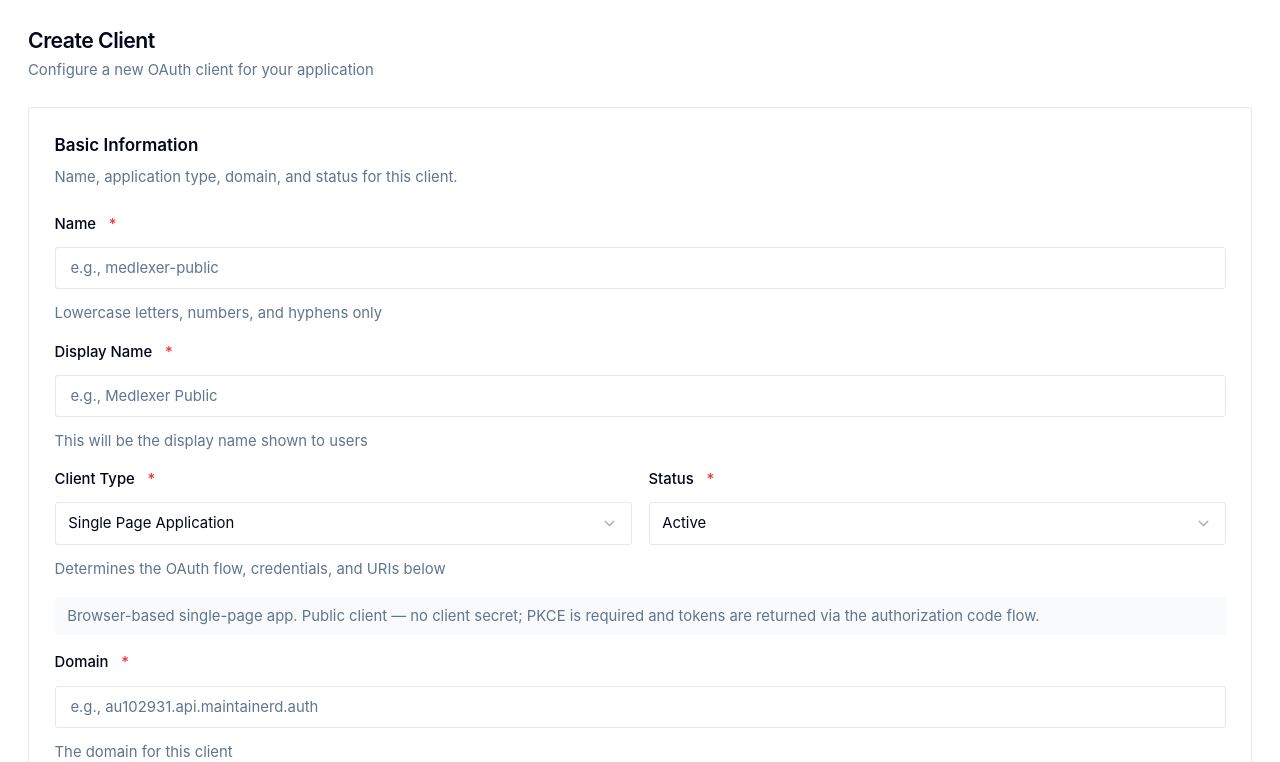
Test: ClientAddOrUpdateForm › maps structured server field errors onto the offending inputs
Step 1. Type "my-client" into the field labelled "Name *" → (640, 268), box [54,247,1226,290]
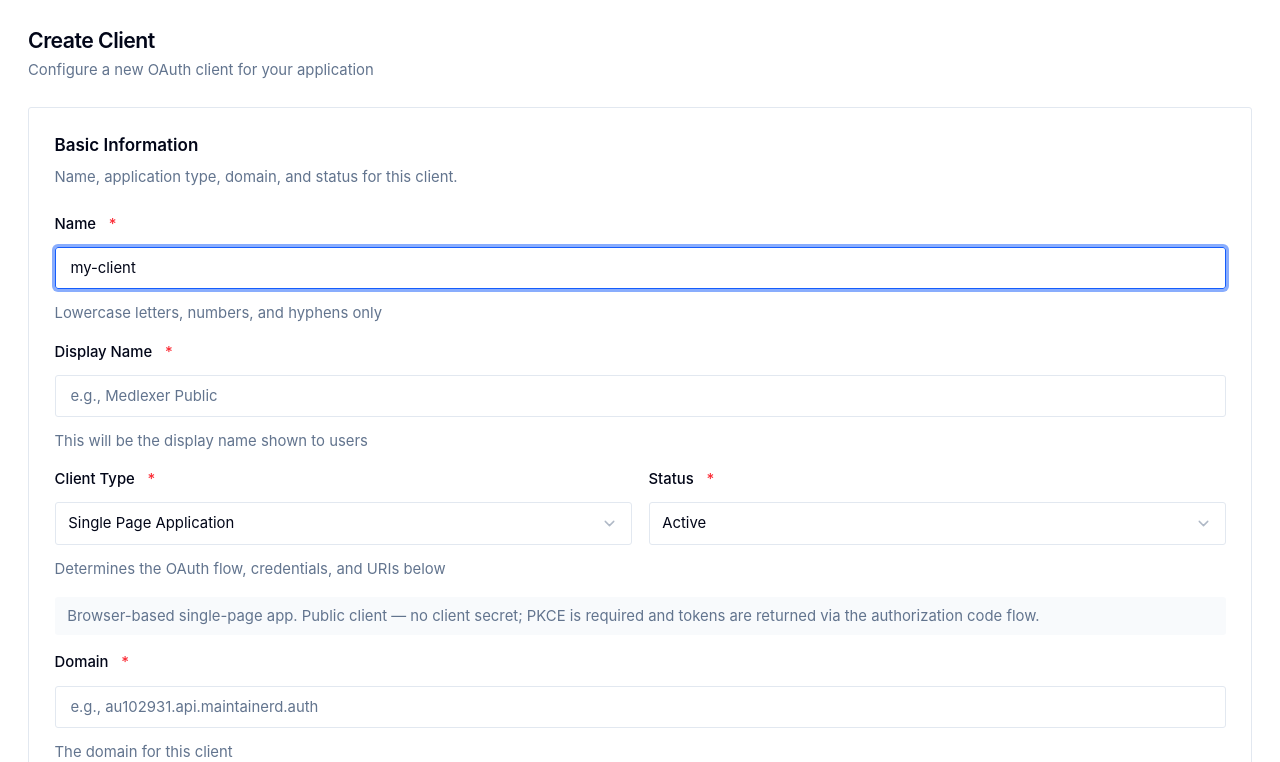
Step 2. Type "My Client App" into the field labelled "Display Name *" → (640, 396), box [54,375,1226,417]
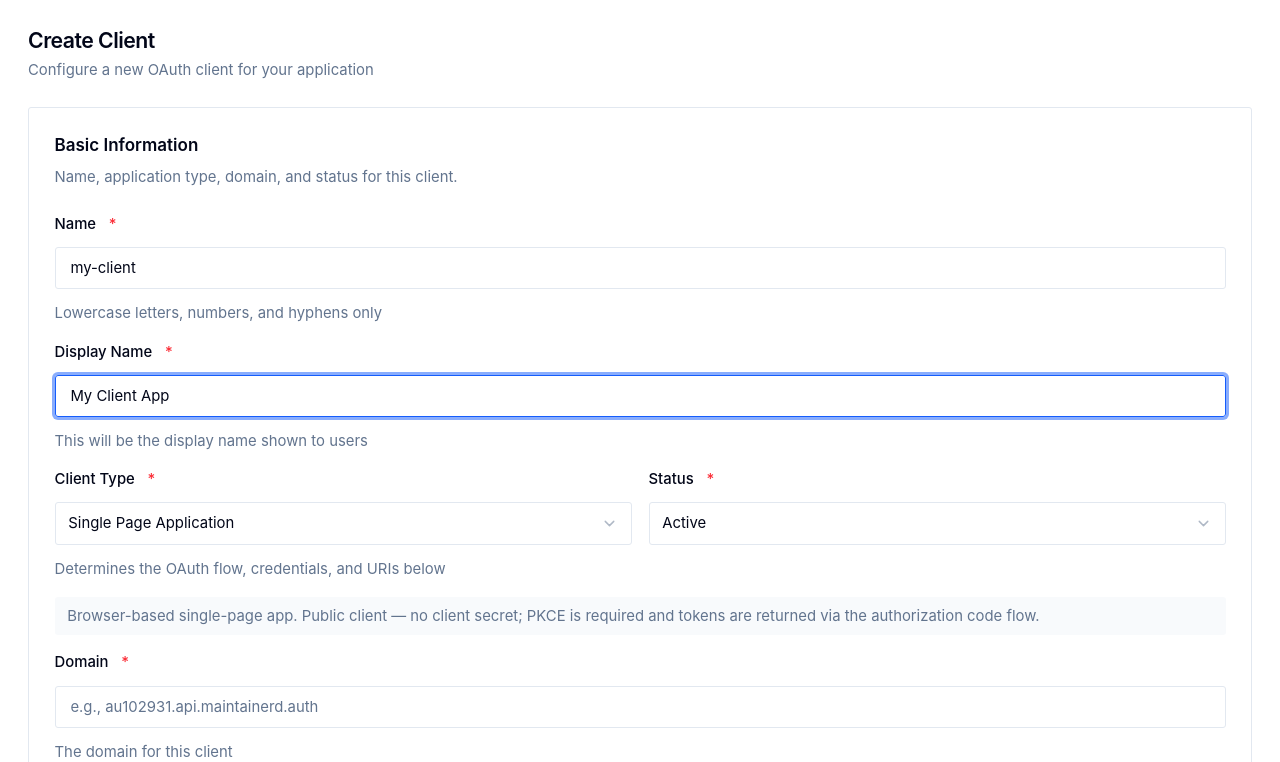
Step 3. Type "app.example.com" into the field labelled "Domain *" → (640, 707), box [54,686,1226,728]
(page scrolled)
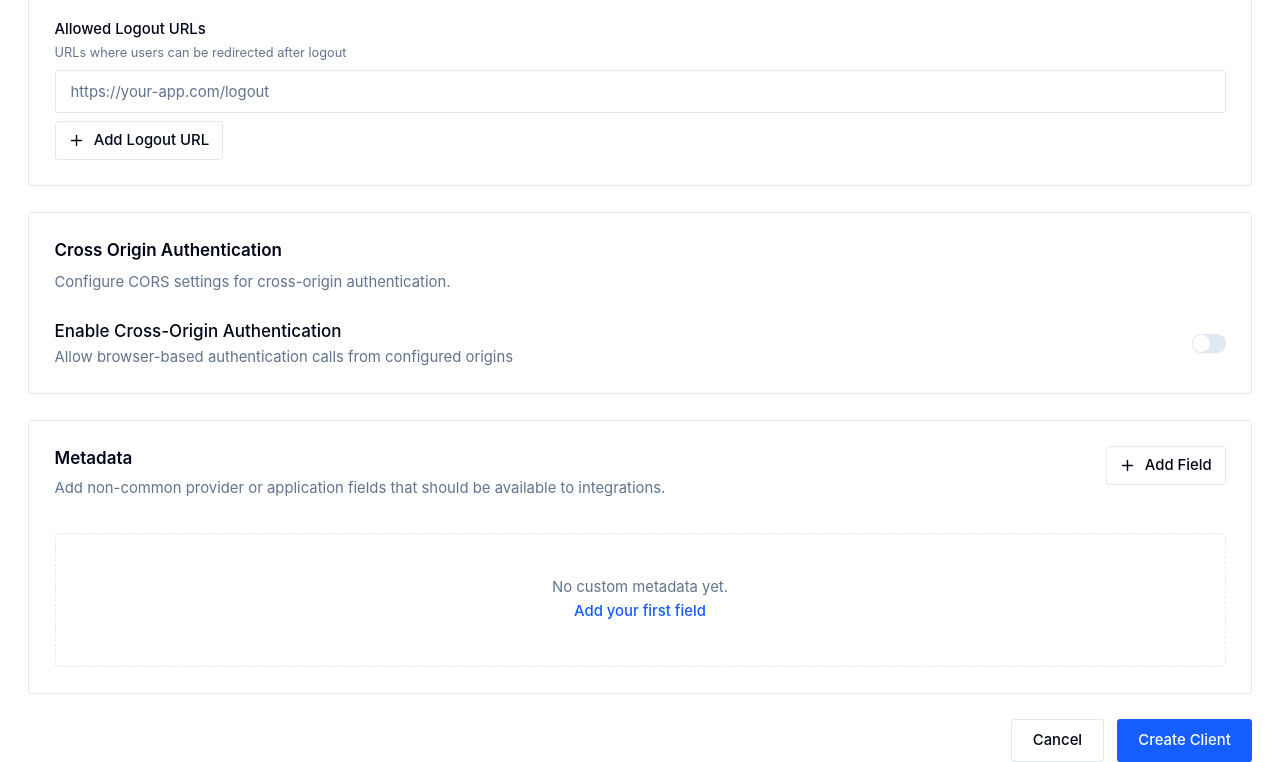
Step 4. Click the button "Create Client" → click(1185, 740), box [1117,719,1252,761]
(page scrolled)
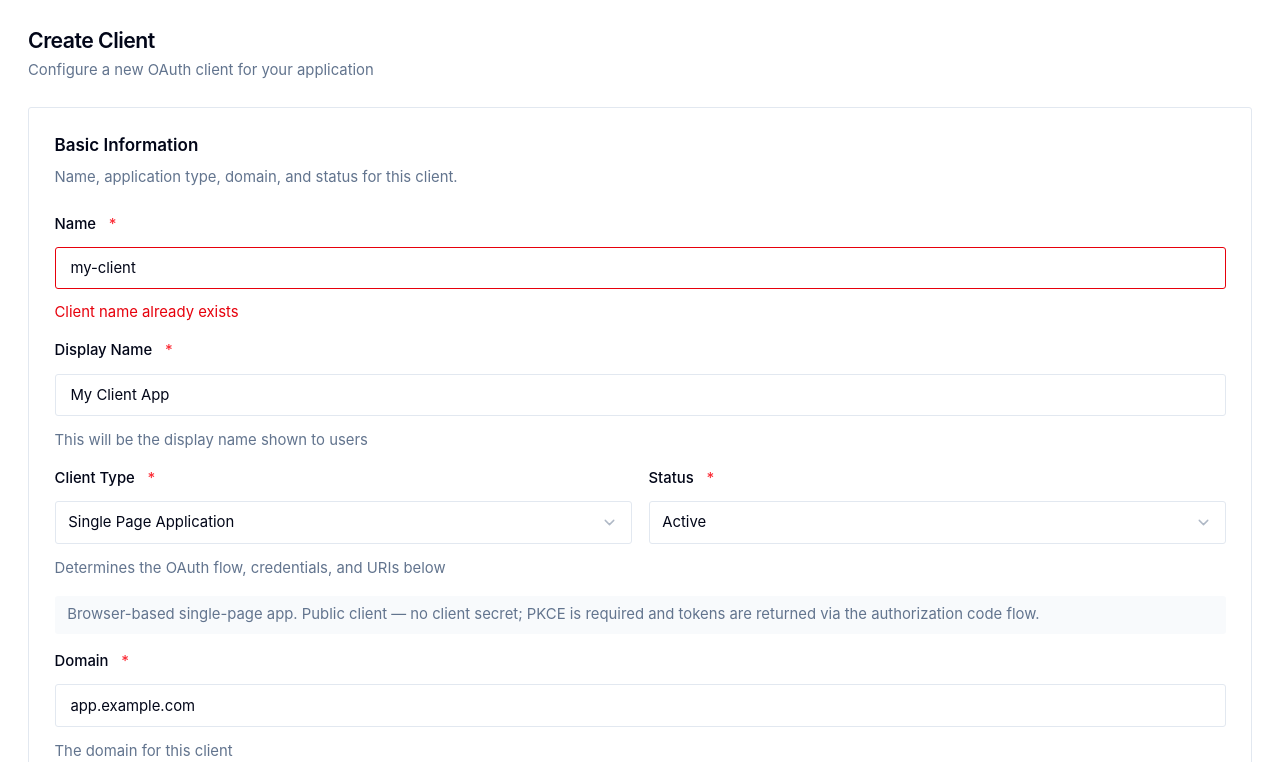
expect the text "Client name already exists" is shown: met, box [54,303,239,321]
